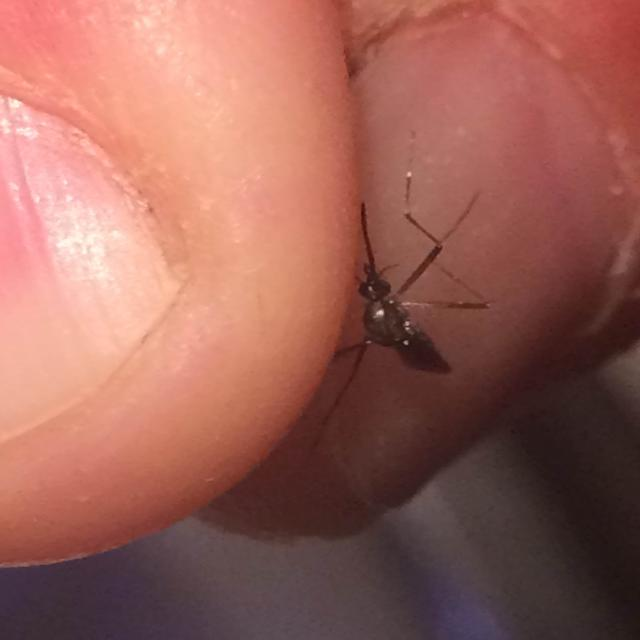albopictus: (322, 152, 508, 383)
